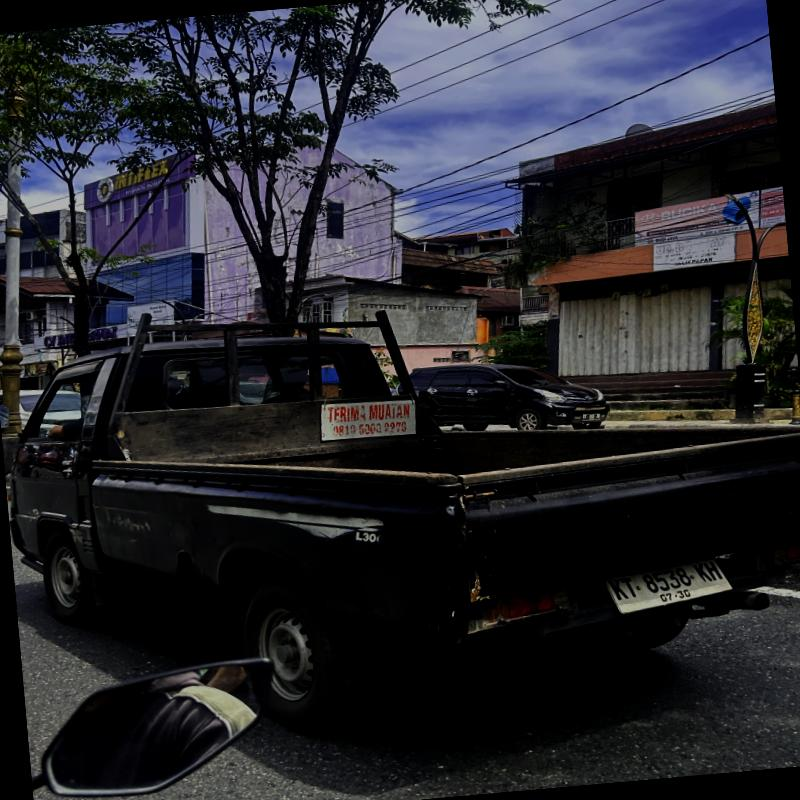license plate on a car: (600, 560, 737, 616)
